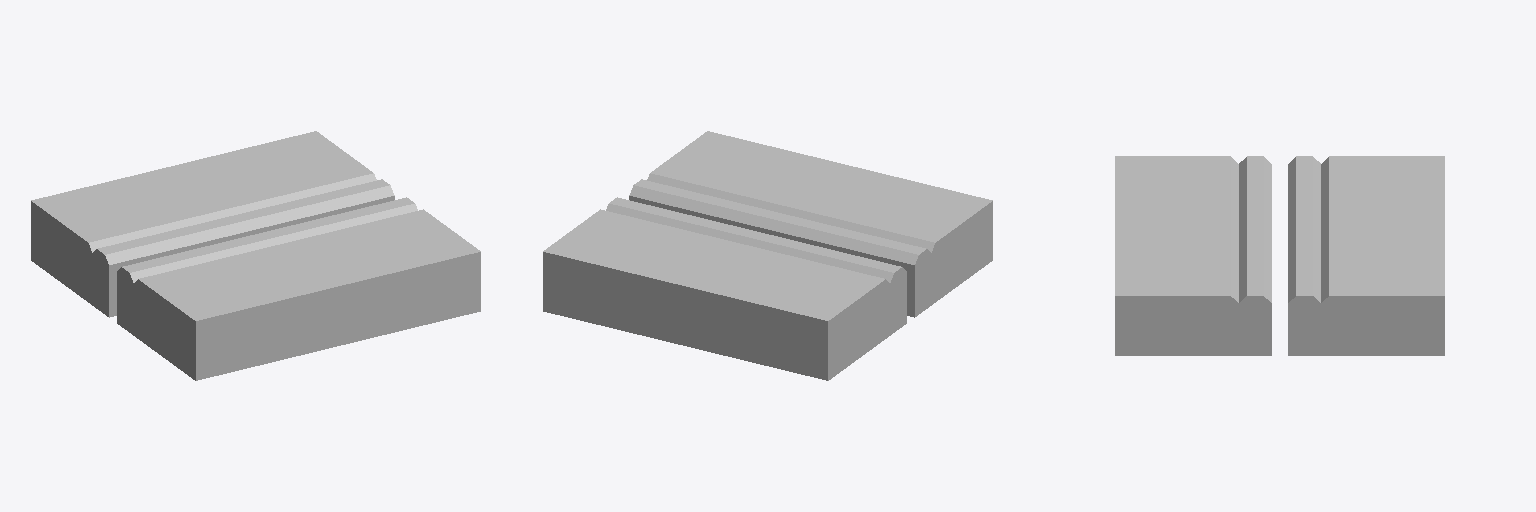
Rendered from trap_floor_saw_slot_mid.obj.
3 views of the same model, side by side, from view 1: azimuth 30°, elevation 25°; view 2: azimuth 150°, elevation 25°; view 3: azimuth 270°, elevation 25° (orthographic).
Visible parts, largest first — view 1: trap_floor_saw_slot_mid_2, trap_floor_saw_slot_mid; view 2: trap_floor_saw_slot_mid, trap_floor_saw_slot_mid_2; view 3: trap_floor_saw_slot_mid, trap_floor_saw_slot_mid_2.
Boxes of the visible parts, x1=… form: trap_floor_saw_slot_mid_2: x1=117, y1=197, x2=480, y2=380; trap_floor_saw_slot_mid: x1=31, y1=131, x2=394, y2=317; trap_floor_saw_slot_mid: x1=543, y1=197, x2=906, y2=380; trap_floor_saw_slot_mid_2: x1=629, y1=131, x2=992, y2=317; trap_floor_saw_slot_mid: x1=1288, y1=156, x2=1444, y2=355; trap_floor_saw_slot_mid_2: x1=1115, y1=156, x2=1271, y2=355.
Bounding box in the file's own units: 1 × 0.2 × 1.